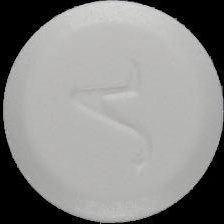0603-3213: (0, 0, 224, 224)
